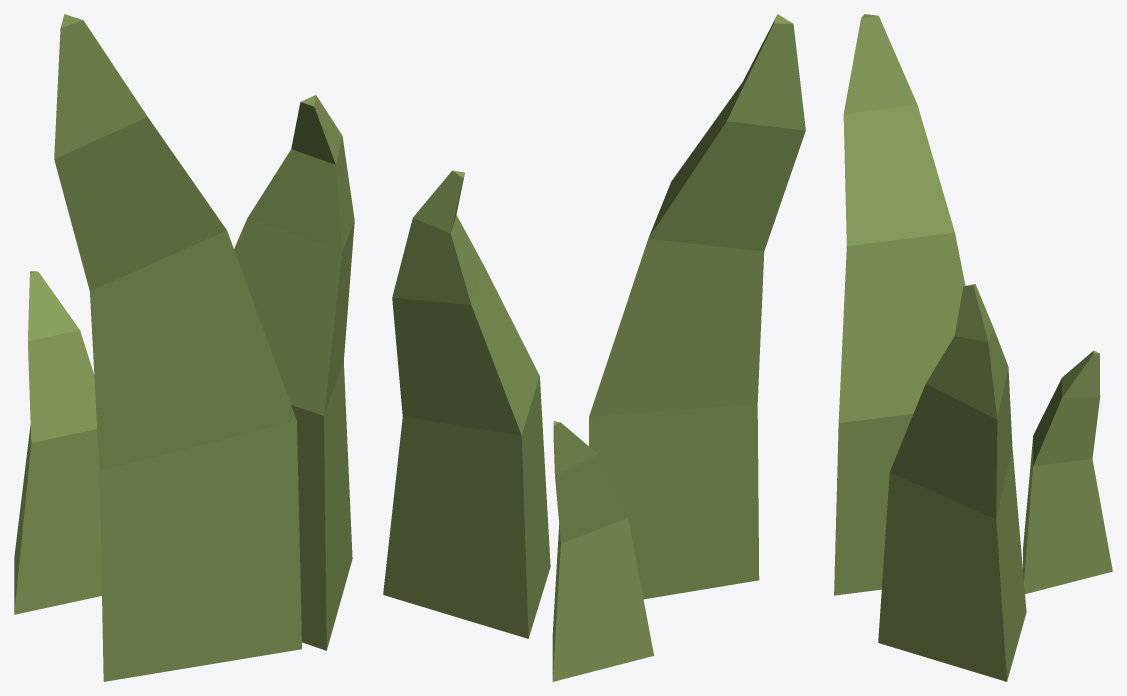
Rendered from grass1.fbx.
The picture shows the model from 3 angles, left to right: view 1: azimuth 30°, elevation 25°; view 2: azimuth 150°, elevation 25°; view 3: azimuth 270°, elevation 25°; orthographic projection. The views are drawn at different scales.
Visible parts, largest first — view 1: Cylinder; view 2: Cylinder; view 3: Cylinder.
Part boxes in pixels (x1,y1,x2,y2): Cylinder: [14, 14, 354, 681]; Cylinder: [383, 14, 805, 681]; Cylinder: [834, 14, 1112, 681].
Size of the model in its own units: 376 by 635 by 302.
